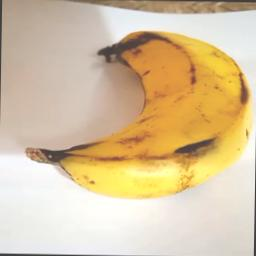Banana Unripe: (29, 24, 256, 204)
